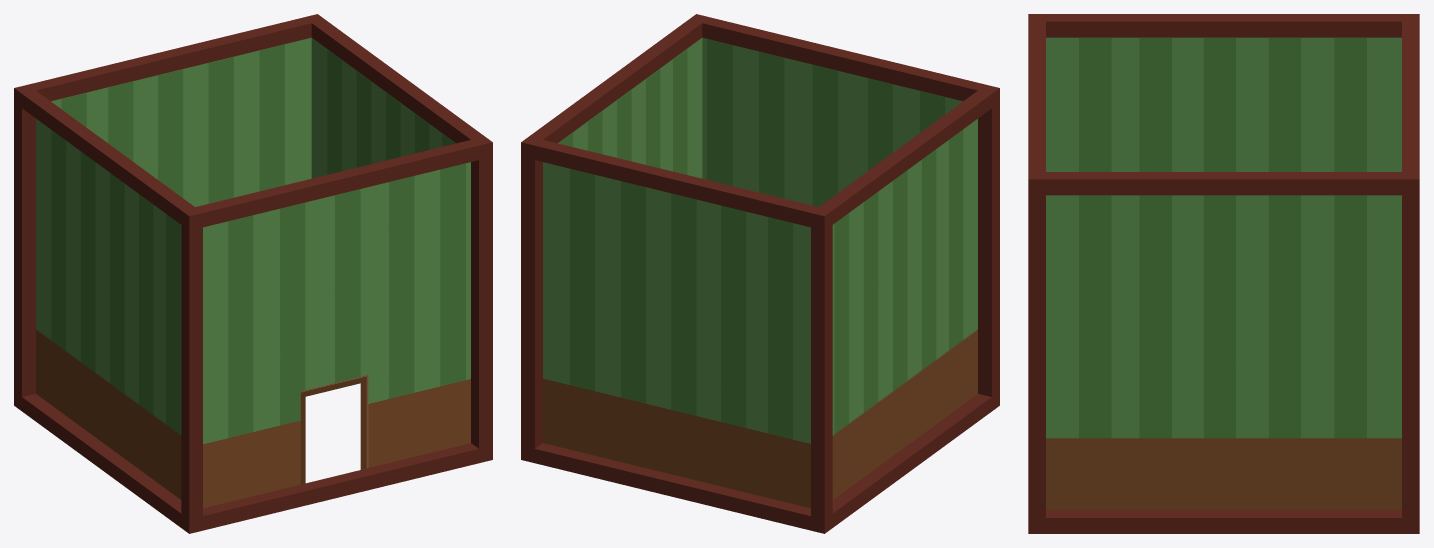
The model's file is stage01_01.fbx.
The picture shows the model from 3 angles, left to right: view 1: azimuth 30°, elevation 25°; view 2: azimuth 150°, elevation 25°; view 3: azimuth 270°, elevation 25°; orthographic projection. The views are drawn at different scales.
Parts seen in each view (by area): view 1: wall03, bezel, wall04, wall01, wall02; view 2: wall01, bezel, wall04, wall03, wall02; view 3: wall02, wall04, bezel.
Part boxes in pixels (x1,y1,x2,y2): wall03: (203,162,470,508); bezel: (14,14,492,533); wall04: (36,119,181,499); wall01: (51,37,311,206); wall02: (311,38,455,178); wall01: (543,162,810,508); bezel: (521,14,999,533); wall04: (832,119,977,499); wall03: (702,37,962,206); wall02: (558,38,702,178); wall02: (1046,195,1401,510); wall04: (1046,37,1401,171); bezel: (1028,14,1419,533).
Bounding box in the file's own units: 220 × 220 × 220.
